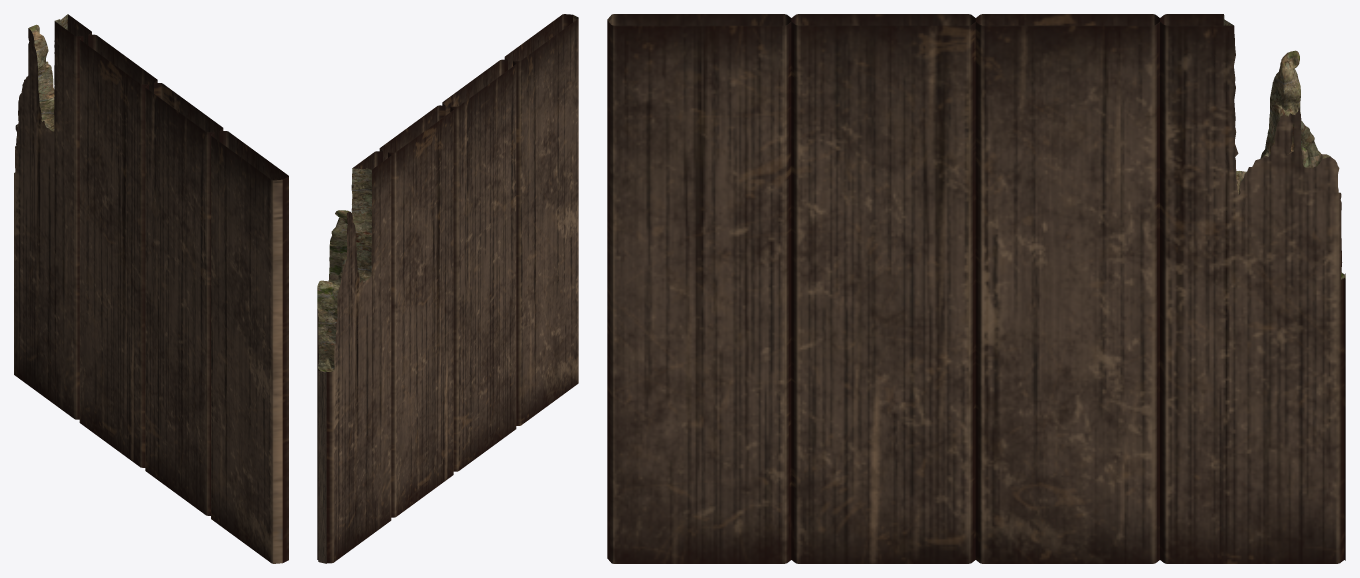
File: SM_Wood_08.fbx
3 renders of one model, left to right at view 1: azimuth 30°, elevation 25°; view 2: azimuth 150°, elevation 25°; view 3: azimuth 270°, elevation 25°, orthographic. The views are drawn at different scales.
Visible parts, largest first — view 1: SM_Wood_08_LOD0; view 2: SM_Wood_08_LOD0; view 3: SM_Wood_08_LOD0.
Part boxes in pixels (x1,y1,x2,y2): SM_Wood_08_LOD0: [14, 14, 288, 563]; SM_Wood_08_LOD0: [317, 14, 578, 563]; SM_Wood_08_LOD0: [607, 14, 1345, 563].
Size of the model in its own units: 10 by 267 by 215.
